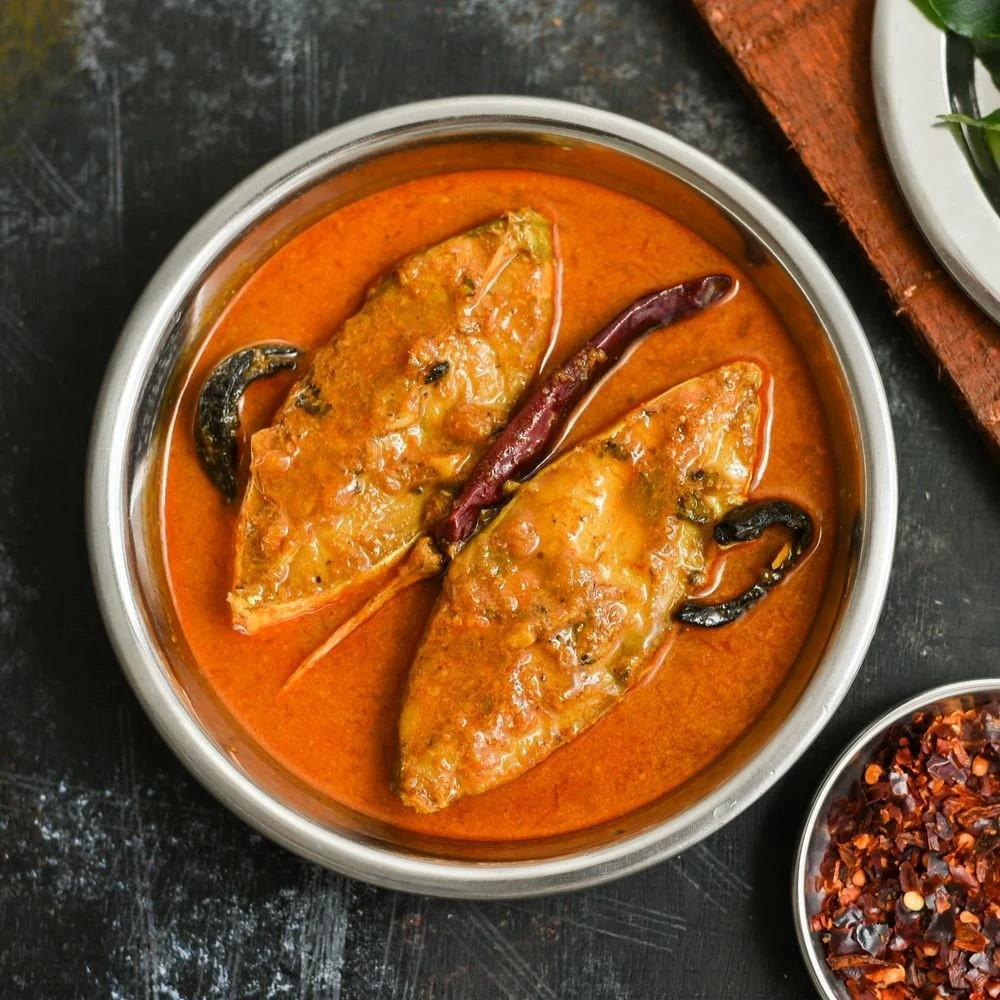FishCurry: (159, 161, 823, 846)
